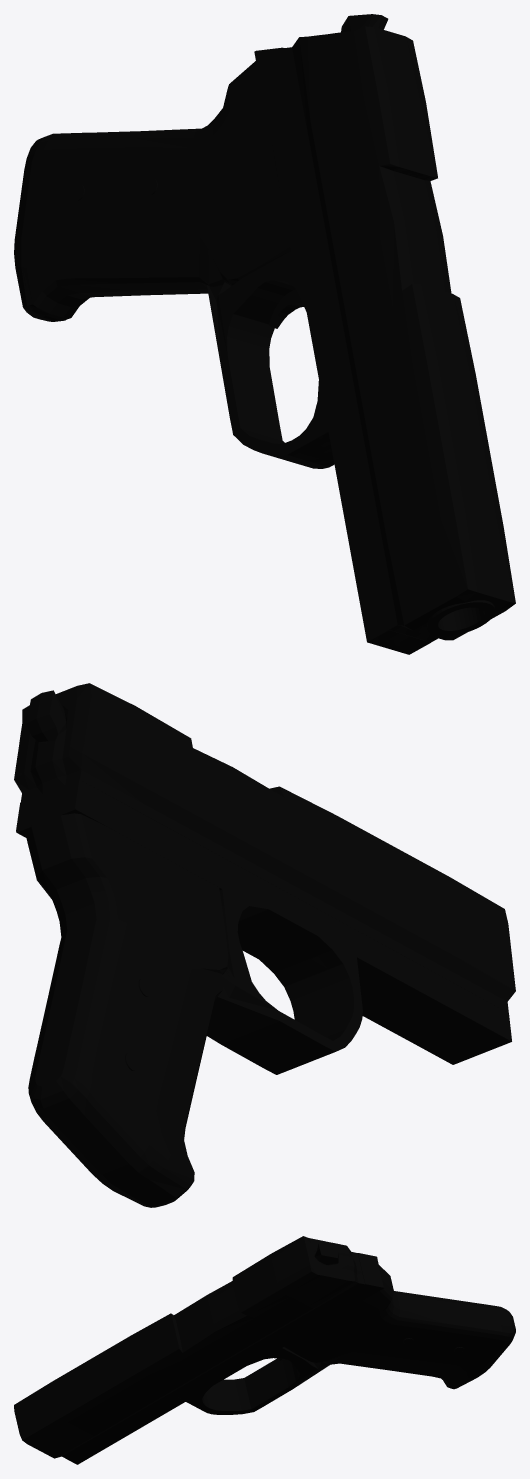
The model's file is mhw_culturalibre_cl_gun.glb.
The picture shows the model from 3 angles, top to bottom: view 1: azimuth 30°, elevation 25°; view 2: azimuth 150°, elevation 25°; view 3: azimuth 270°, elevation 25°; orthographic projection. The views are drawn at different scales.
Visible parts, largest first — view 1: mhw_culturalibre_cl_gun; view 2: mhw_culturalibre_cl_gun; view 3: mhw_culturalibre_cl_gun.
Part boxes in pixels (x1,y1,x2,y2): mhw_culturalibre_cl_gun: (14, 14, 515, 654); mhw_culturalibre_cl_gun: (14, 683, 515, 1207); mhw_culturalibre_cl_gun: (14, 1236, 515, 1464).
Bounding box in the file's own units: 0.0958 × 0.1529 × 0.2565.
Materials: 1 (1 with a texture image).
